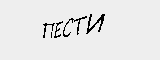Е: (54, 20, 66, 38)
И: (86, 11, 106, 34)
П: (42, 19, 55, 41)
С: (62, 17, 75, 39)
Т: (73, 15, 88, 36)
